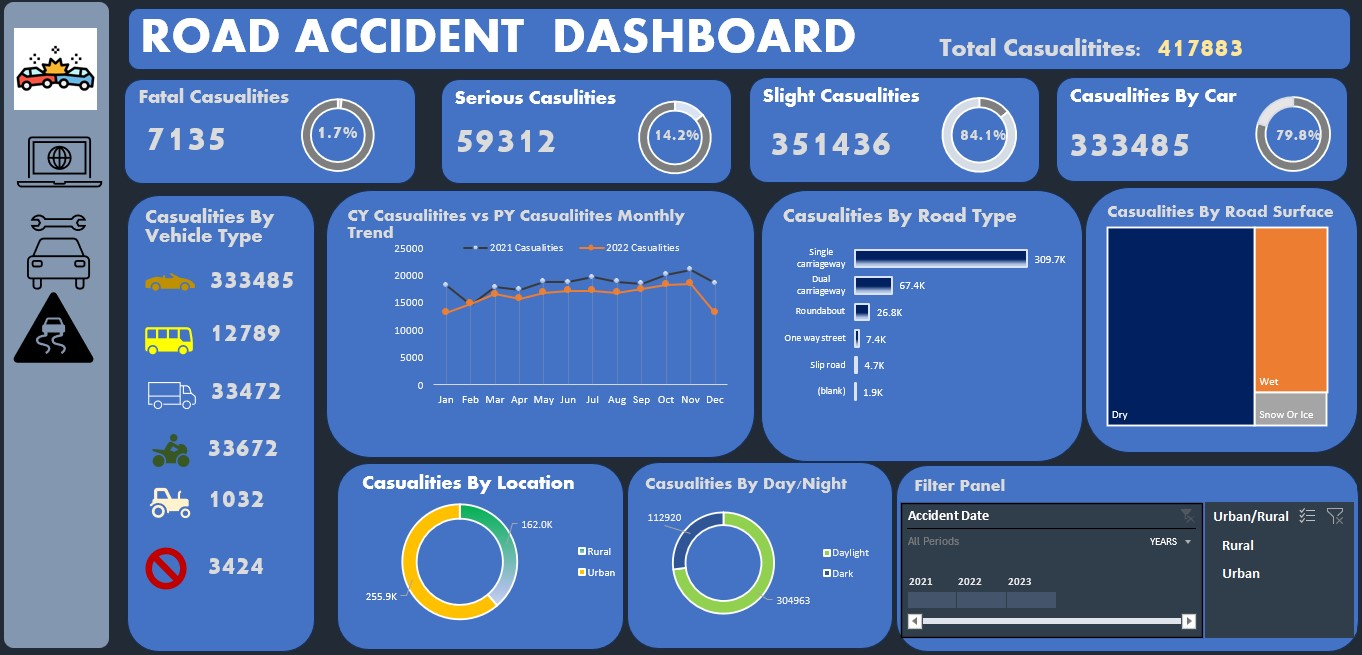

The dashboard page shown, as its layout file describes it:
{"tool":"tableau","page":{"name":"Dashboard 1","canvas":[1000,1000],"units":"permille","ordinal":0},"visuals":[{"type":"image","param":"D:/road safety dashboard/tableaubg.jpg","box":[4.9,10,990.3,980]},{"type":"parameter","param":"[Parameters].[Parameter 2]","box":[412.2,40,165.8,83.7]},{"type":"parameter","param":"[Parameters].[Parameter 1]","box":[577.9,40,165.8,83.7]},{"type":"parameter","param":"[Parameters].[Current Year (copy)_1372472018394828802]","box":[743.7,40,165.8,83.7]},{"type":"text","box":[93.6,41.2,358.1,84.9]},{"type":"text","box":[333.1,151.1,193.9,42.5]},{"type":"worksheet","title":"Total Accidents","mark":"Automatic","box":[76,152.3,122.8,139.8]},{"type":"worksheet","title":"Accident Sparkline","mark":"Area","rows":["CY Accidents (copy)_1372472018396540932","Calculation_1372472018394992643"],"cols":["Accident Date"],"box":[198.8,152.3,122.8,139.8]},{"type":"image","param":"D:/road safety dashboard/Vehicel Images/Bike 3.png","box":[676.6,179.8,31.6,61.2]},{"type":"image","param":"D:/road safety dashboard/Vehicel Images/Van.png","box":[775.7,183.5,37.7,62.4]},{"type":"image","param":"D:/road safety dashboard/Vehicel Images/Car.png","box":[579.3,184.8,42,53.7]},{"type":"image","param":"D:/road safety dashboard/Vehicel Images/tractro 2.png","box":[401.2,187.3,40.1,49.9]},{"type":"image","param":"D:/road safety dashboard/Vehicel Images/Bus.png","box":[494.2,189.8,26.8,47.4]},{"type":"image","param":"D:/road safety dashboard/Vehicel Images/Other.png","box":[877.8,189.8,20.1,43.7]},{"type":"worksheet","title":"Vehicle Type KPI","mark":"Automatic","box":[330.7,219.7,573.2,86.1]},{"type":"worksheet","title":"Total Casualties","mark":"Automatic","box":[78.4,314.6,122.2,143.6]},{"type":"worksheet","title":"Total Casualties Sparkline","mark":"Area","rows":["CY Casualties (copy)_1372472018412158983","Calculation_1372472018411094022"],"cols":["Accident Date"],"box":[200.6,314.6,121.6,143.6]},{"type":"worksheet","title":"By Location","mark":"Automatic","rows":["Latitude"],"cols":["Longitude"],"box":[689.4,315.9,219.5,646.7]},{"type":"worksheet","title":"Weather Condition","mark":"Pie","rows":["Calculation_1477180710811594754","Calculation_1477180710811631620"],"box":[331.3,317.1,169.6,314.6]},{"type":"worksheet","title":"Road Surfaces","mark":"Pie","rows":["Calculation_1477180710811594754","Calculation_1477180710811631620"],"box":[512.5,318.4,163.5,309.6]},{"type":"worksheet","title":"Fatal Casualties","mark":"Automatic","box":[88.8,480.7,116.1,143.6]},{"type":"worksheet","title":"Fatal Casualties Sparkline ","mark":"Area","rows":["CY Fatal Casualties (copy)_1372472018416406538","Calculation_1372472018414665737"],"cols":["Accident Date"],"box":[204.9,480.7,115.5,143.6]},{"type":"worksheet","title":"Serious Casualties ","mark":"Automatic","box":[86.3,652.9,116.1,143.6]},{"type":"worksheet","title":"Serious Casualties Sparkline","mark":"Area","rows":["PY Fatal Casualties  (copy)_1372472018417401869","CY Fatal Casualties (copy)_1372472018417135628"],"cols":["Accident Date"],"box":[202.4,652.9,115.5,143.6]},{"type":"worksheet","title":"Road Type","mark":"Automatic","rows":["Road_Type"],"cols":["Calculation_1372472018411094022"],"box":[330.1,652.9,341,308.4]},{"type":"worksheet","title":"Slight Casualties ","mark":"Automatic","box":[89.4,819,114.9,139.8]},{"type":"worksheet","title":"Slight Casualties Sparkline","mark":"Area","rows":["PY Serious Casualties  (copy)_1372472018418176016","CY Serious Casualties  (copy)_1372472018418057231"],"cols":["Accident Date"],"box":[204.3,819,114.3,139.8]}]}

Visuals, with their boxes on the dashboard's canvas, which has no fixed pixel size, in thousandths of its width and height (x1, y1, x2, y2). These are canvas units, not pixel positions in the 1362x655 screenshot, which may show the page scaled, cropped or inside an application window:
image: <box>5,10,995,990</box>
parameter: <box>412,40,578,124</box>
parameter: <box>578,40,744,124</box>
parameter: <box>744,40,910,124</box>
text: <box>94,41,452,126</box>
text: <box>333,151,527,194</box>
"Total Accidents" worksheet: <box>76,152,199,292</box>
"Accident Sparkline" worksheet (Area marks): <box>199,152,322,292</box>
image: <box>677,180,708,241</box>
image: <box>776,184,813,246</box>
image: <box>579,185,621,238</box>
image: <box>401,187,441,237</box>
image: <box>494,190,521,237</box>
image: <box>878,190,898,234</box>
"Vehicle Type KPI" worksheet: <box>331,220,904,306</box>
"Total Casualties" worksheet: <box>78,315,201,458</box>
"Total Casualties Sparkline" worksheet (Area marks): <box>201,315,322,458</box>
"By Location" worksheet: <box>689,316,909,963</box>
"Weather Condition" worksheet (Pie marks): <box>331,317,501,632</box>
"Road Surfaces" worksheet (Pie marks): <box>512,318,676,628</box>
"Fatal Casualties" worksheet: <box>89,481,205,624</box>
"Fatal Casualties Sparkline " worksheet (Area marks): <box>205,481,320,624</box>
"Serious Casualties " worksheet: <box>86,653,202,796</box>
"Serious Casualties Sparkline" worksheet (Area marks): <box>202,653,318,796</box>
"Road Type" worksheet: <box>330,653,671,961</box>
"Slight Casualties " worksheet: <box>89,819,204,959</box>
"Slight Casualties Sparkline" worksheet (Area marks): <box>204,819,319,959</box>
